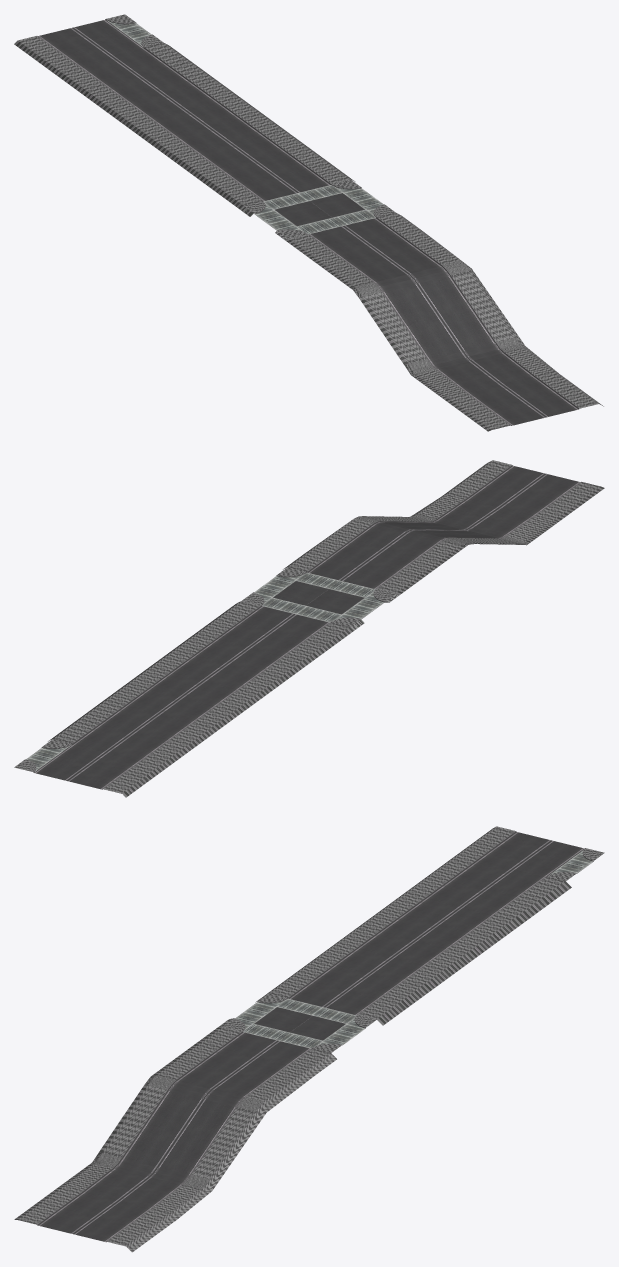
The model's file is road14_sfe.obj.
3 renders of one model, top to bottom at view 1: azimuth 30°, elevation 25°; view 2: azimuth 150°, elevation 25°; view 3: azimuth 330°, elevation 25°, orthographic.
Visible parts, largest first — view 1: road14_sfe; view 2: road14_sfe; view 3: road14_sfe.
Part boxes in pixels (x1,y1,x2,y2): road14_sfe: [14, 14, 603, 431]; road14_sfe: [14, 460, 604, 797]; road14_sfe: [14, 826, 604, 1252].
Size of the model in its own units: 29.92 by 11.57 by 210.
Materials: 4 (4 with a texture image).
